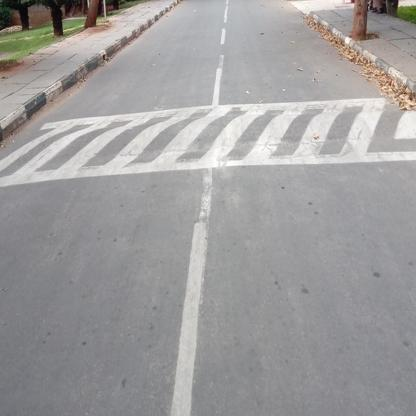speed-bumps: (1, 87, 415, 202)
